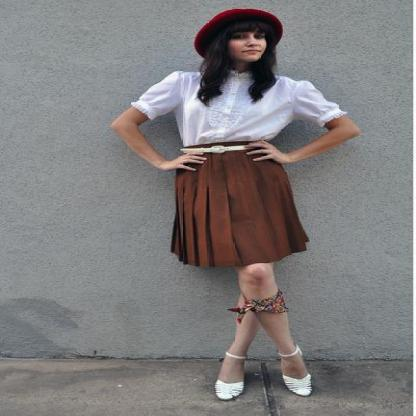hat: (201, 9, 282, 41)
shirt: (130, 70, 345, 153)
skirt: (170, 141, 308, 267)
